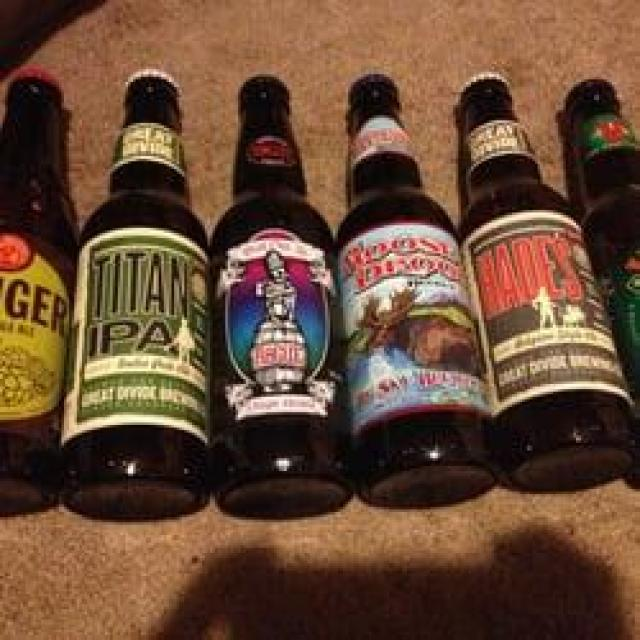glass bottle: (453, 77, 634, 496), (56, 69, 212, 525), (338, 72, 498, 513), (208, 72, 360, 521), (0, 66, 80, 522), (558, 77, 639, 499)
